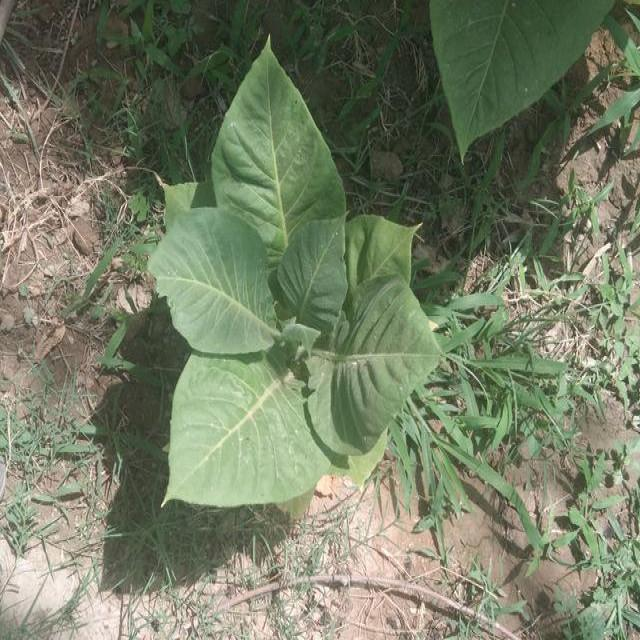crop: (145, 32, 441, 516)
